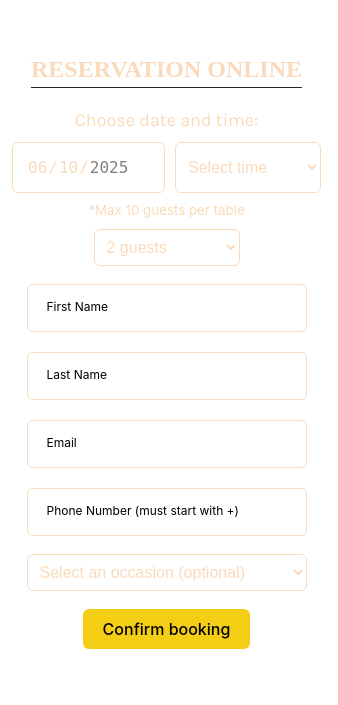
Test: BookingForm › shows validation errors for required fields when submitting empty form
Step 1. Click the button with aria-label "Submit booking details" → click(166, 629), box [83,609,250,649]
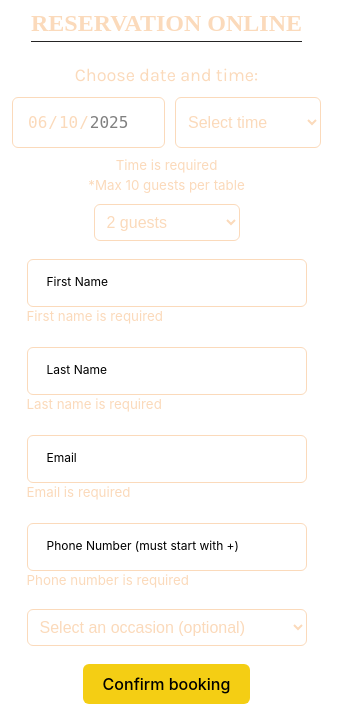
Expected: the text "First name is required" is shown, [26,308,163,324]
Expected: the text "Last name is required" is shown, [26,396,162,412]
Expected: the text "Email is required" is shown, [26,484,130,500]
